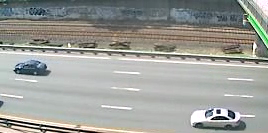car: (186, 106, 246, 132), (11, 58, 51, 79)
